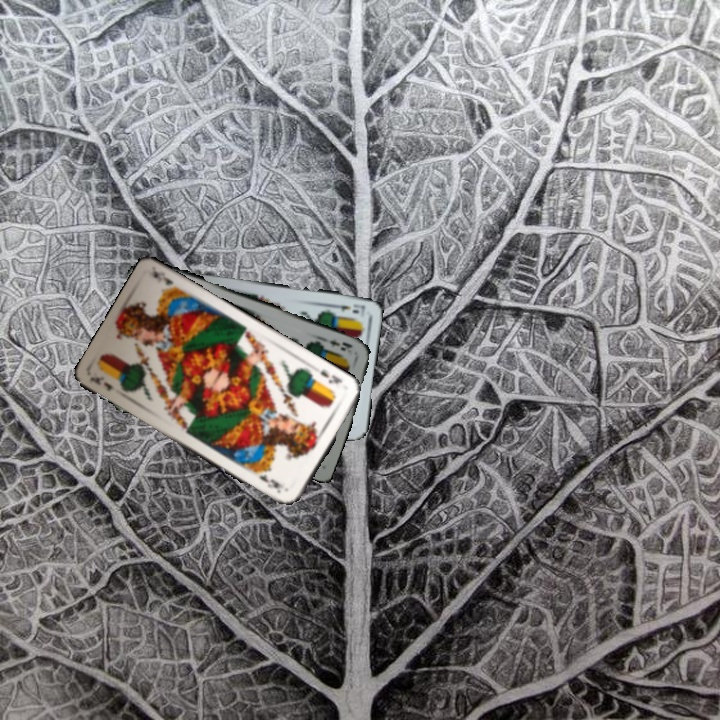EK: (86, 372, 118, 393), (326, 300, 367, 316), (316, 365, 345, 386), (326, 335, 355, 353)
